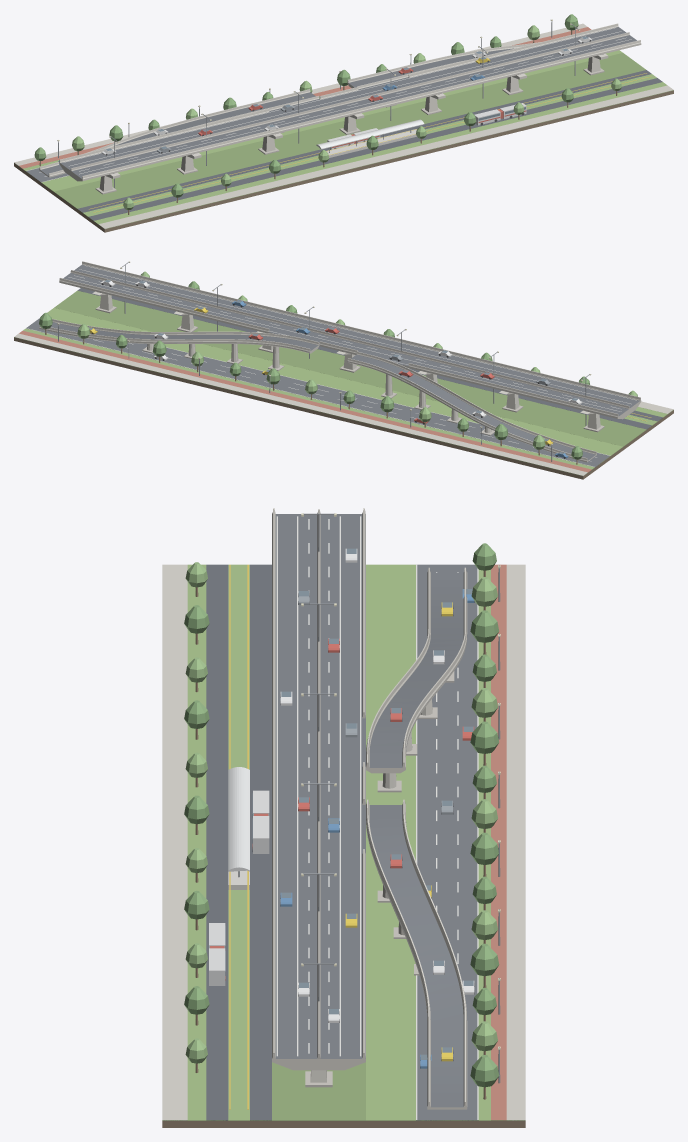
File: via-expresa.glb
3 renders of one model, top to bottom at view 1: azimuth 30°, elevation 25°; view 2: azimuth 150°, elevation 25°; view 3: azimuth 270°, elevation 25°, orthographic. The views are drawn at different scales.
Parts seen in each view (by area): view 1: ViaExpresaElevada; view 2: ViaExpresaElevada; view 3: ViaExpresaElevada.
Boxes of the visible parts, x1,y1,x2,y2 form: ViaExpresaElevada: [14, 14, 673, 232]; ViaExpresaElevada: [14, 261, 673, 479]; ViaExpresaElevada: [162, 508, 525, 1127].
Bounding box in the file's own units: 210 × 18.7 × 58.
